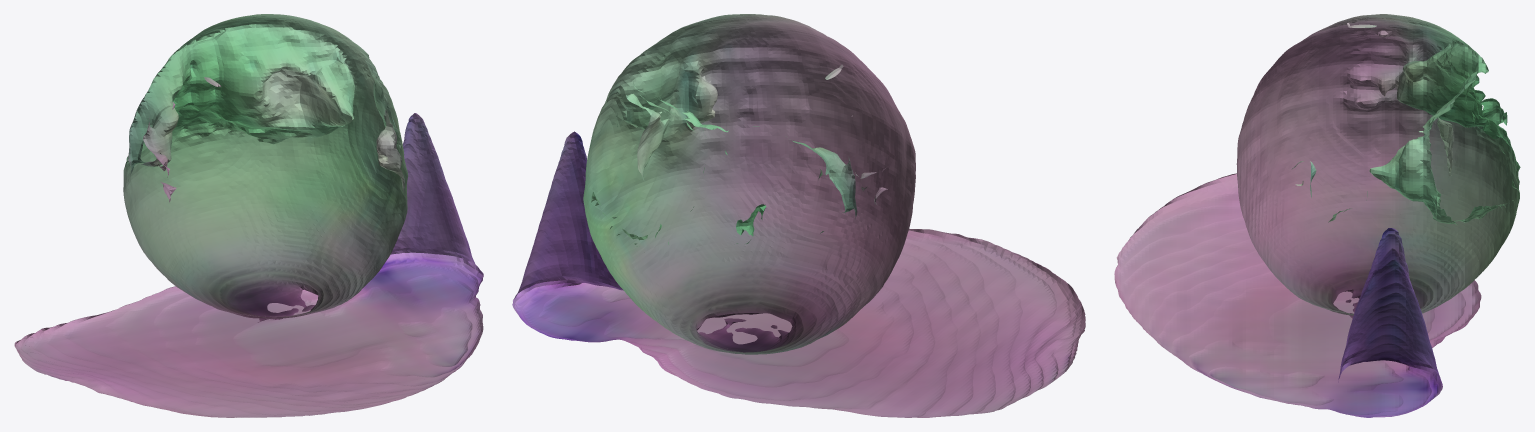
3 views of the same model, side by side, from view 1: azimuth 30°, elevation 25°; view 2: azimuth 150°, elevation 25°; view 3: azimuth 270°, elevation 25° (orthographic). The views are drawn at different scales.
Visible parts, largest first — view 1: geometry_0; view 2: geometry_0; view 3: geometry_0.
Boxes of the visible parts, <box> form: geometry_0: <box>14,14,483,417</box>; geometry_0: <box>512,14,1085,417</box>; geometry_0: <box>1114,14,1520,417</box>.
Bounding box in the file's own units: 1.6 × 0.9896 × 1.21.
